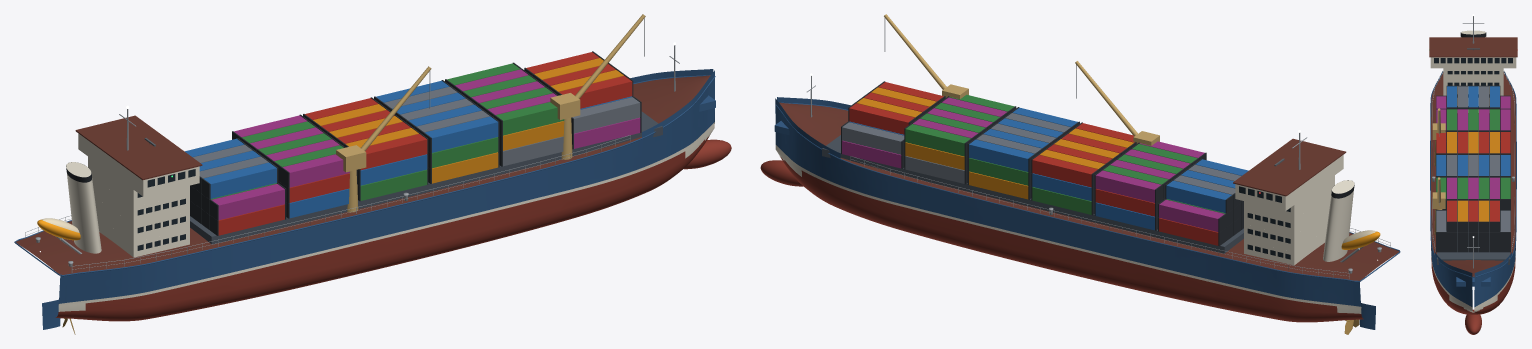
File: cargo.glb
The picture shows the model from 3 angles, left to right: view 1: azimuth 30°, elevation 25°; view 2: azimuth 150°, elevation 25°; view 3: azimuth 270°, elevation 25°; orthographic projection. The views are drawn at different scales.
Parts seen in each view (by area): view 1: hull, deck, containers_1, containers_0, containers_5, containers_2, containers_4, containers_3, bridge_roof, hatch_coamings, container_ends, funnel_stack (+13 smaller); view 2: hull, deck, containers_1, containers_0, containers_5, containers_2, containers_4, containers_3, container_ends, bridge_roof, hatch_coamings, funnel_stack (+9 smaller); view 3: container_ends, hull, deck, bridge_roof, containers_5, containers_0, containers_4, containers_1, containers_2, hatch_coamings, containers_3, bridge (+17 smaller).
Part boxes in pixels (<box>): hull: <box>55,78,714,321</box>; deck: <box>16,75,710,274</box>; containers_1: <box>185,80,631,218</box>; containers_0: <box>218,52,632,235</box>; containers_5: <box>212,69,640,220</box>; containers_2: <box>211,63,564,200</box>; containers_4: <box>193,86,640,178</box>; containers_3: <box>313,58,623,183</box>; bridge_roof: <box>75,115,202,180</box>; hatch_coamings: <box>190,111,662,244</box>; container_ends: <box>190,51,641,235</box>; funnel_stack: <box>66,162,101,253</box>; hull: <box>775,104,1363,322</box>; deck: <box>779,102,1399,280</box>; containers_1: <box>849,107,1248,230</box>; containers_0: <box>849,82,1218,245</box>; containers_5: <box>842,97,1224,231</box>; containers_2: <box>905,94,1225,214</box>; containers_4: <box>842,113,1241,194</box>; containers_3: <box>857,87,1133,199</box>; container_ends: <box>841,81,1243,246</box>; bridge_roof: <box>1233,138,1346,196</box>; hatch_coamings: <box>822,135,1243,253</box>; funnel_stack: <box>1323,180,1354,261</box>; container_ends: <box>1436,85,1510,252</box>; hull: <box>1431,244,1515,314</box>; deck: <box>1431,72,1515,276</box>; bridge_roof: <box>1429,37,1517,57</box>; containers_5: <box>1436,96,1510,198</box>; containers_0: <box>1436,132,1510,221</box>; containers_4: <box>1436,86,1510,231</box>; containers_1: <box>1436,86,1510,175</box>; containers_2: <box>1436,109,1510,198</box>; hatch_coamings: <box>1437,114,1509,264</box>; containers_3: <box>1447,132,1499,221</box>; bridge: <box>1430,57,1516,68</box>.
Size of the model in its own units: 123 by 35.78 by 20.68.
